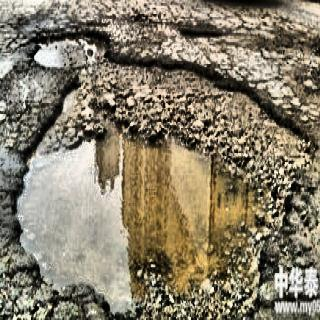alligator-crack: (172, 0, 320, 54), (274, 54, 320, 126), (114, 0, 172, 48), (31, 0, 91, 24), (0, 12, 28, 60)
pothole: (8, 26, 320, 320), (178, 21, 228, 43)
